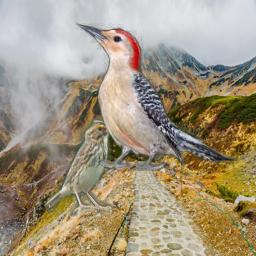Sparrow: (44, 119, 114, 217)
Woodpecker: (75, 21, 239, 171)
